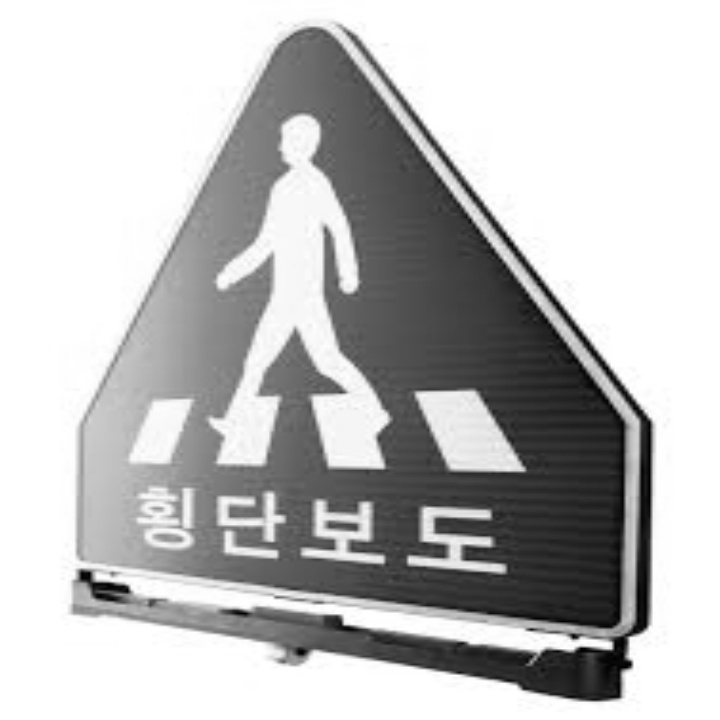cross: (90, 72, 532, 480)
